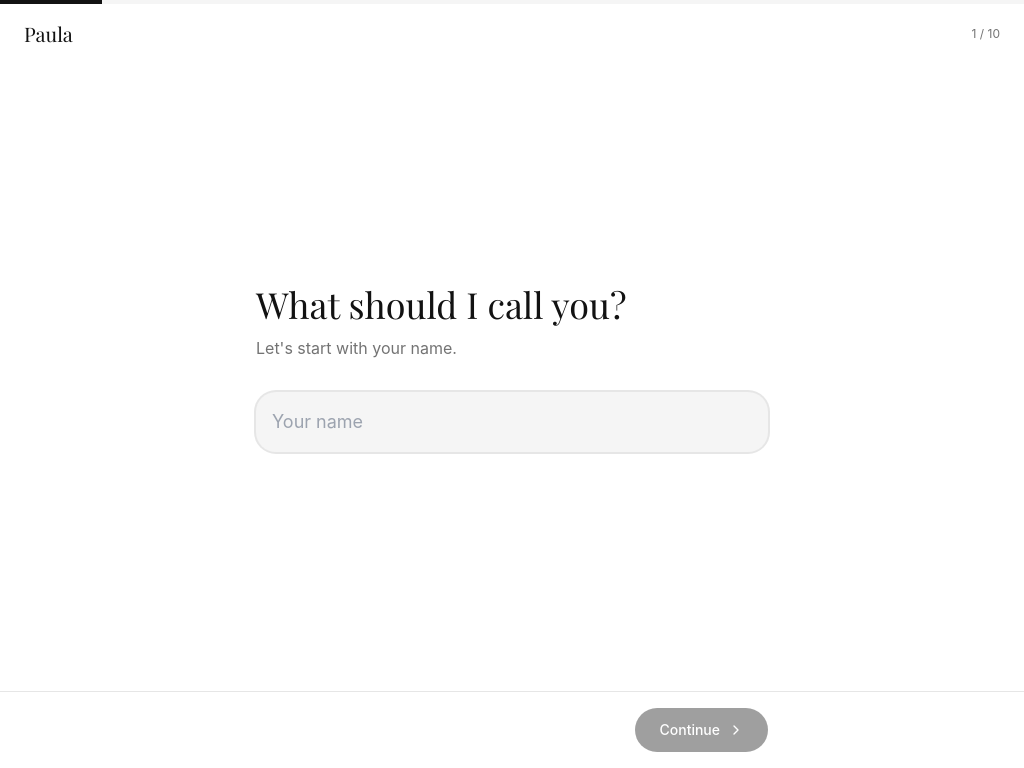
Onboarding — dostępność › names the height field
The image size is (1024, 768).
Later steps or results of the test are not shown.
Step 1. Type "Gabriela" into the field with placeholder "Your name" → (512, 422), box [256,392,768,452]
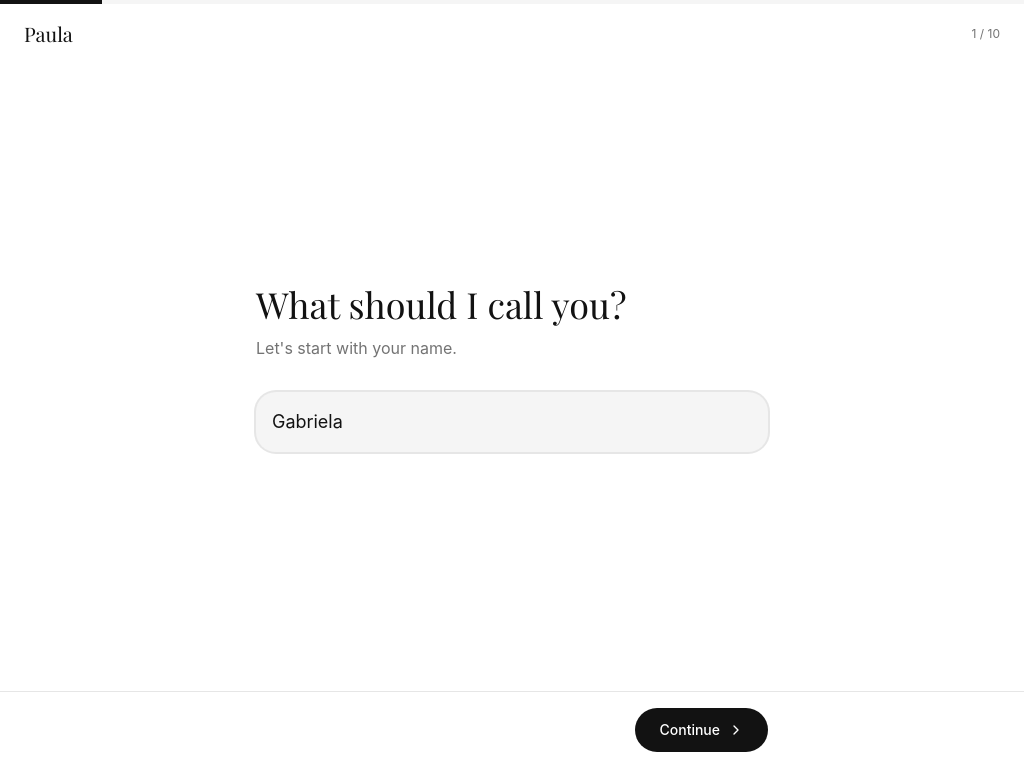
Now the button "Continue" is enabled, box [636,708,768,752]
